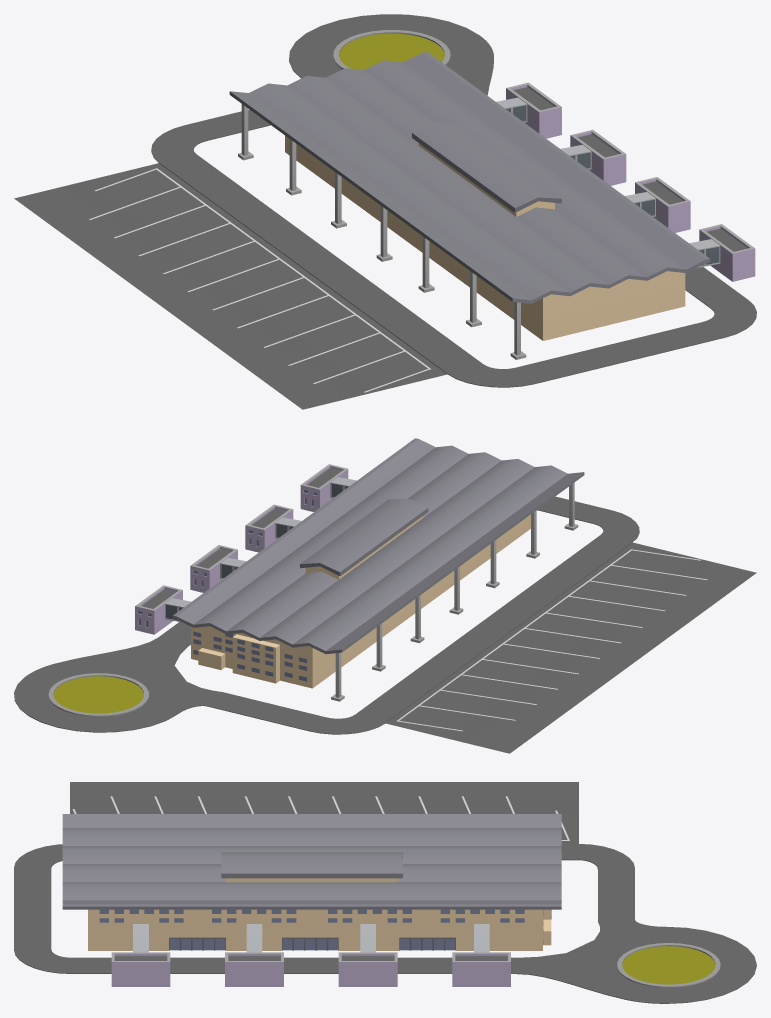
Rendered from Station.FBX.
3 views of the same model, one above another, from view 1: azimuth 30°, elevation 25°; view 2: azimuth 150°, elevation 25°; view 3: azimuth 270°, elevation 25° (orthographic). The views are drawn at different scales.
Parts seen in each view (by area): view 1: Station; view 2: Station; view 3: Station.
Boxes of the visible parts, box(x1,y1,x2,y2) form: Station: box(14, 14, 756, 409); Station: box(14, 438, 756, 753); Station: box(14, 782, 756, 1003).
Size of the model in its own units: 4005 by 527 by 5667.
Materials: 1 (1 with a texture image).
